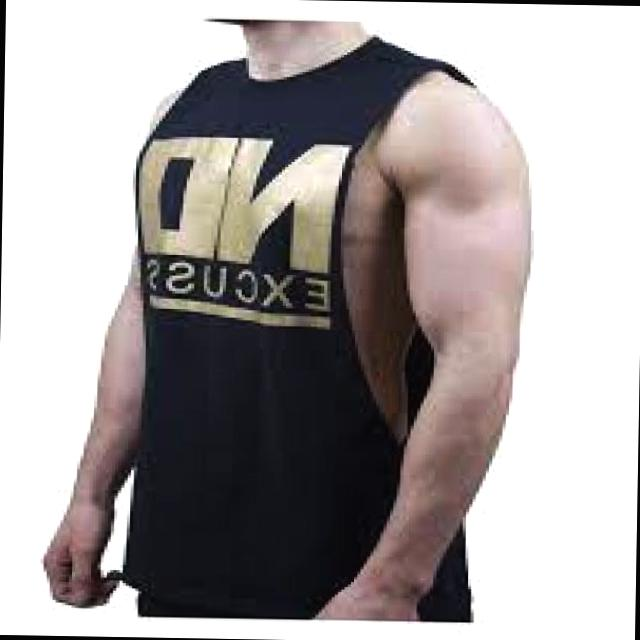no_vest: (119, 29, 484, 614)
